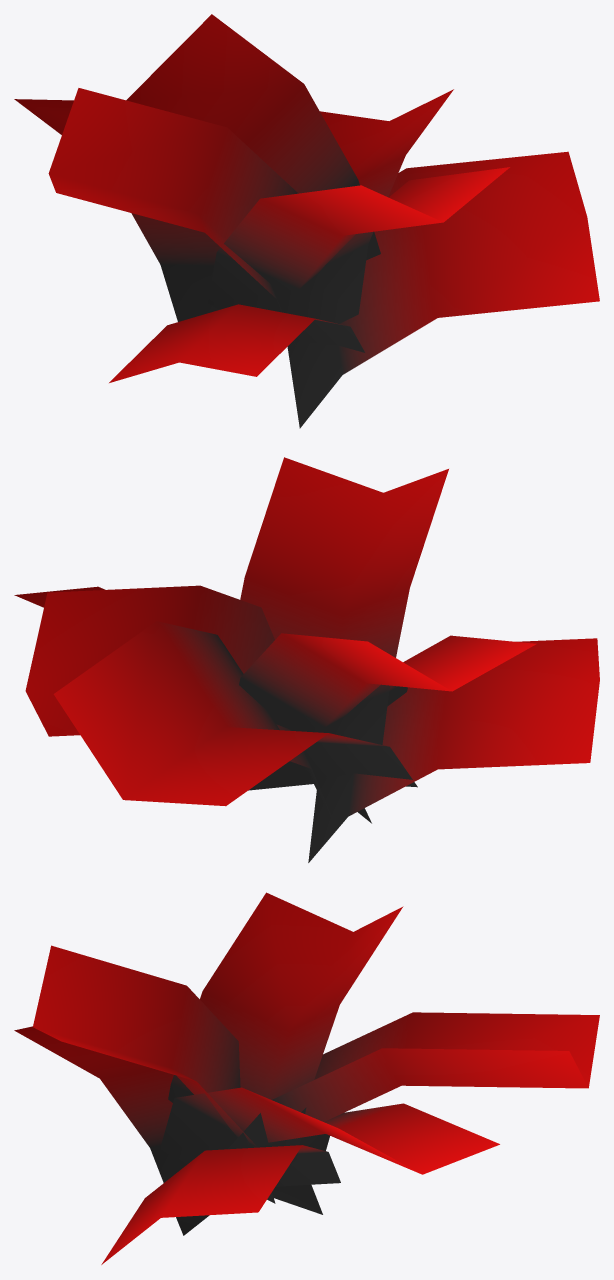
File: SM_Bush1.fbx
The picture shows the model from 3 angles, top to bottom: view 1: azimuth 30°, elevation 25°; view 2: azimuth 150°, elevation 25°; view 3: azimuth 270°, elevation 25°; orthographic projection. The views are drawn at different scales.
Parts seen in each view (by area): view 1: Bush1; view 2: Bush1; view 3: Bush1.
Boxes of the visible parts, left/top/right/bottom form: Bush1: left=14, top=14, right=599, bottom=428; Bush1: left=14, top=457, right=599, bottom=862; Bush1: left=14, top=892, right=599, bottom=1264.
Size of the model in its own units: 0.4281 by 0.2372 by 0.4381.
